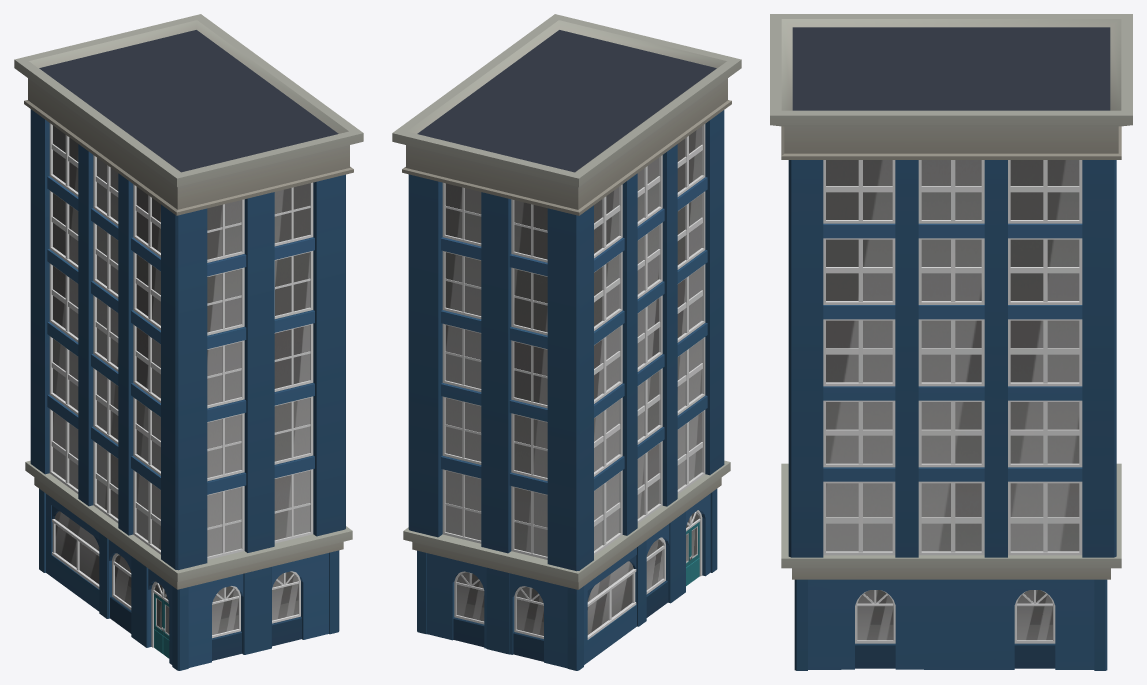
Rendered from Building_27_L.glb.
3 views of the same model, side by side, from view 1: azimuth 30°, elevation 25°; view 2: azimuth 150°, elevation 25°; view 3: azimuth 270°, elevation 25° (orthographic). The views are drawn at different scales.
Visible parts, largest first — view 1: Building_27_L; view 2: Building_27_L; view 3: Building_27_L.
Boxes of the visible parts, x1,y1,x2,y2 form: Building_27_L: (14,14,363,670); Building_27_L: (392,14,741,670); Building_27_L: (770,14,1132,670).
Size of the model in its own units: 7.65 by 19.74 by 11.55.
3 materials, 3 textured.
